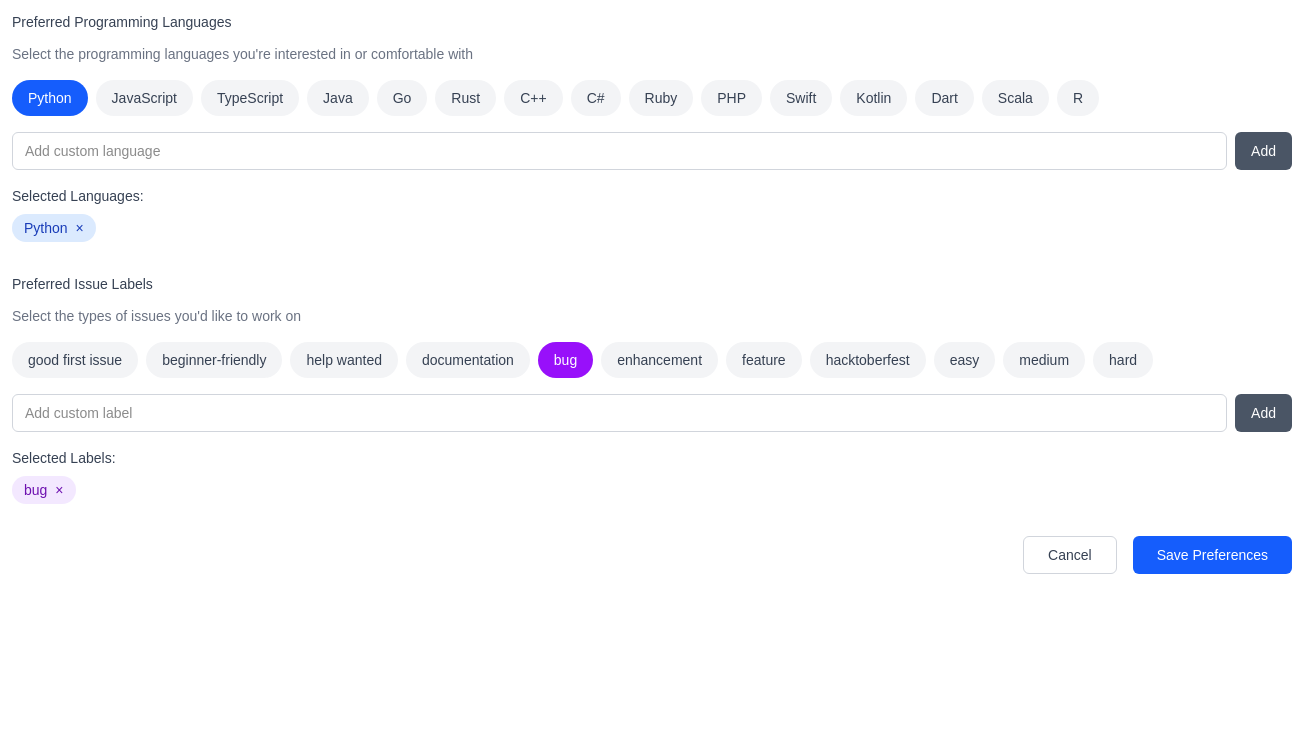
PreferencesForm › displays error on submission failure
The image size is (1304, 732).
Click the button "Save Preferences": click(1212, 555) top-left (1133, 536), bottom-right (1292, 574)
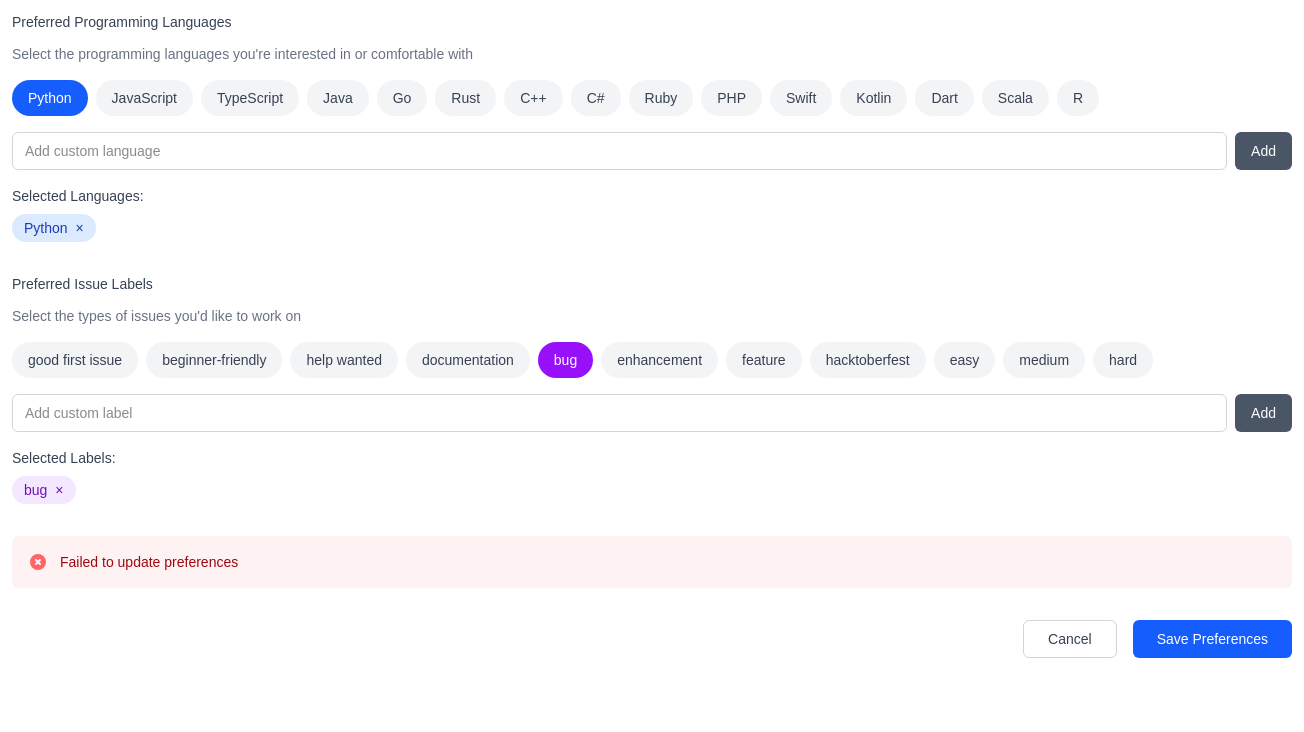
Now the text "Failed to update preferences" is shown, box top-left (60, 552), bottom-right (238, 572)
